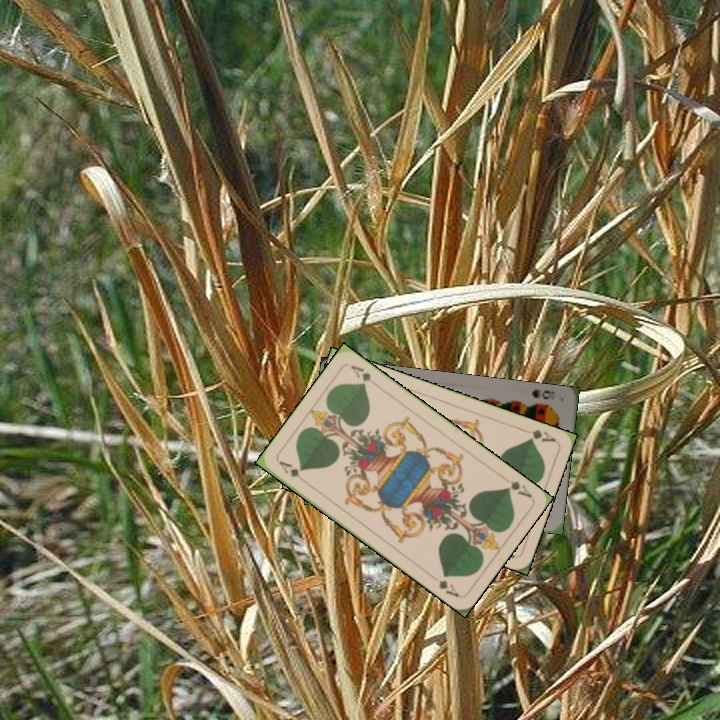GA: (275, 456, 310, 485), (518, 425, 558, 445), (501, 477, 534, 500)
S8: (528, 385, 562, 403)
